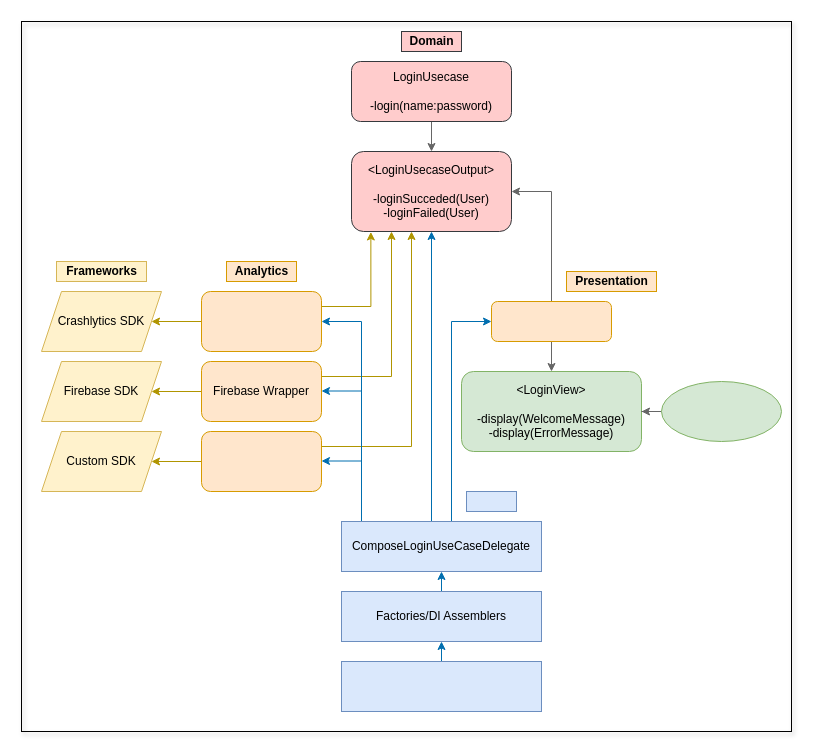
Some shapes in this 815 by 756 pixel diagram are drawn without their labels. Each missing label, with the centre of its shape:
"AppDelegate" belongs at point (441, 686).
"CORE" belongs at point (491, 501).
"Crashlytics Wrapper" belongs at point (261, 321).
"Custom Wrapper" belongs at point (261, 461).
"LoginPresenter" belongs at point (551, 321).
"UI" belongs at point (721, 411).
